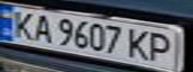0: (87, 20, 106, 53)
6: (69, 18, 90, 50)
7: (103, 24, 127, 56)
9: (51, 16, 75, 47)
A: (30, 12, 57, 43)
K: (6, 8, 39, 41), (124, 26, 154, 61)
P: (145, 29, 181, 64)
